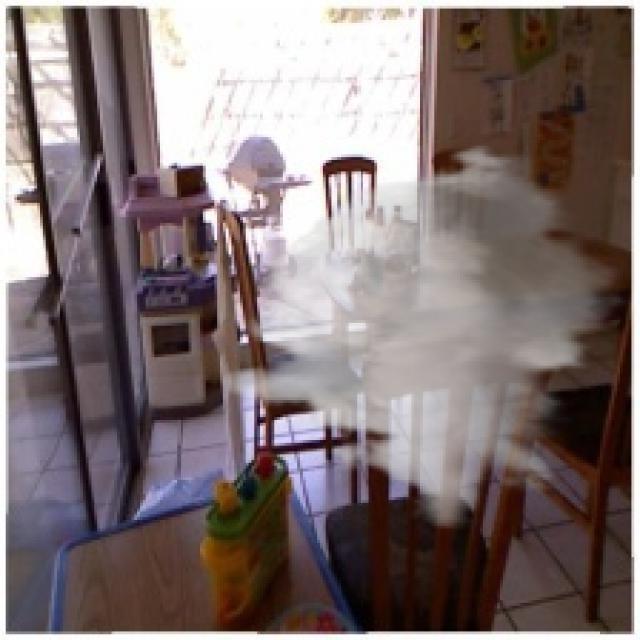Smoke: (217, 143, 632, 532)
